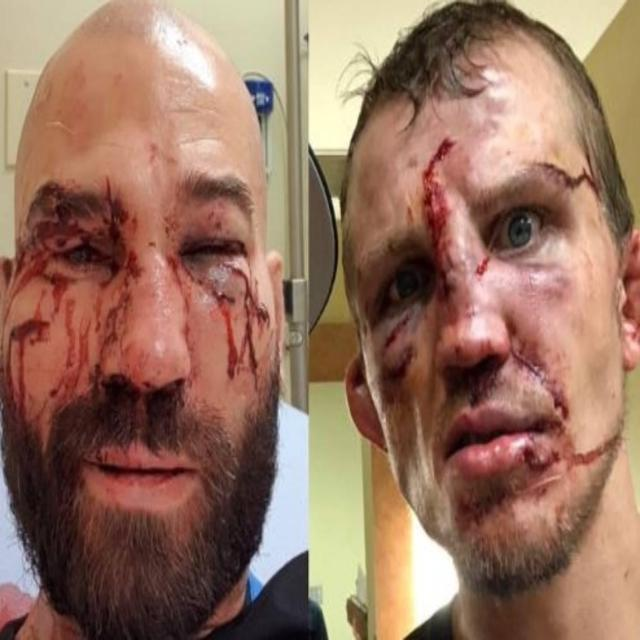flood: (1, 180, 144, 449), (174, 226, 282, 386), (393, 132, 481, 304)
